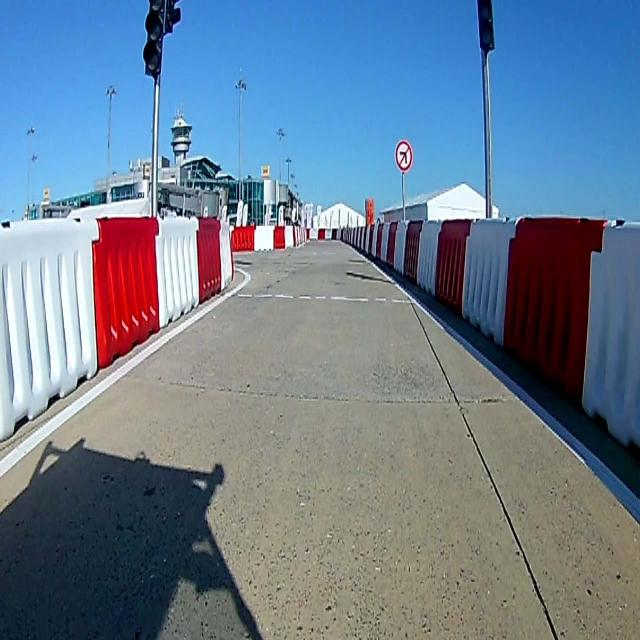soladonulmez: (396, 141, 412, 171)
